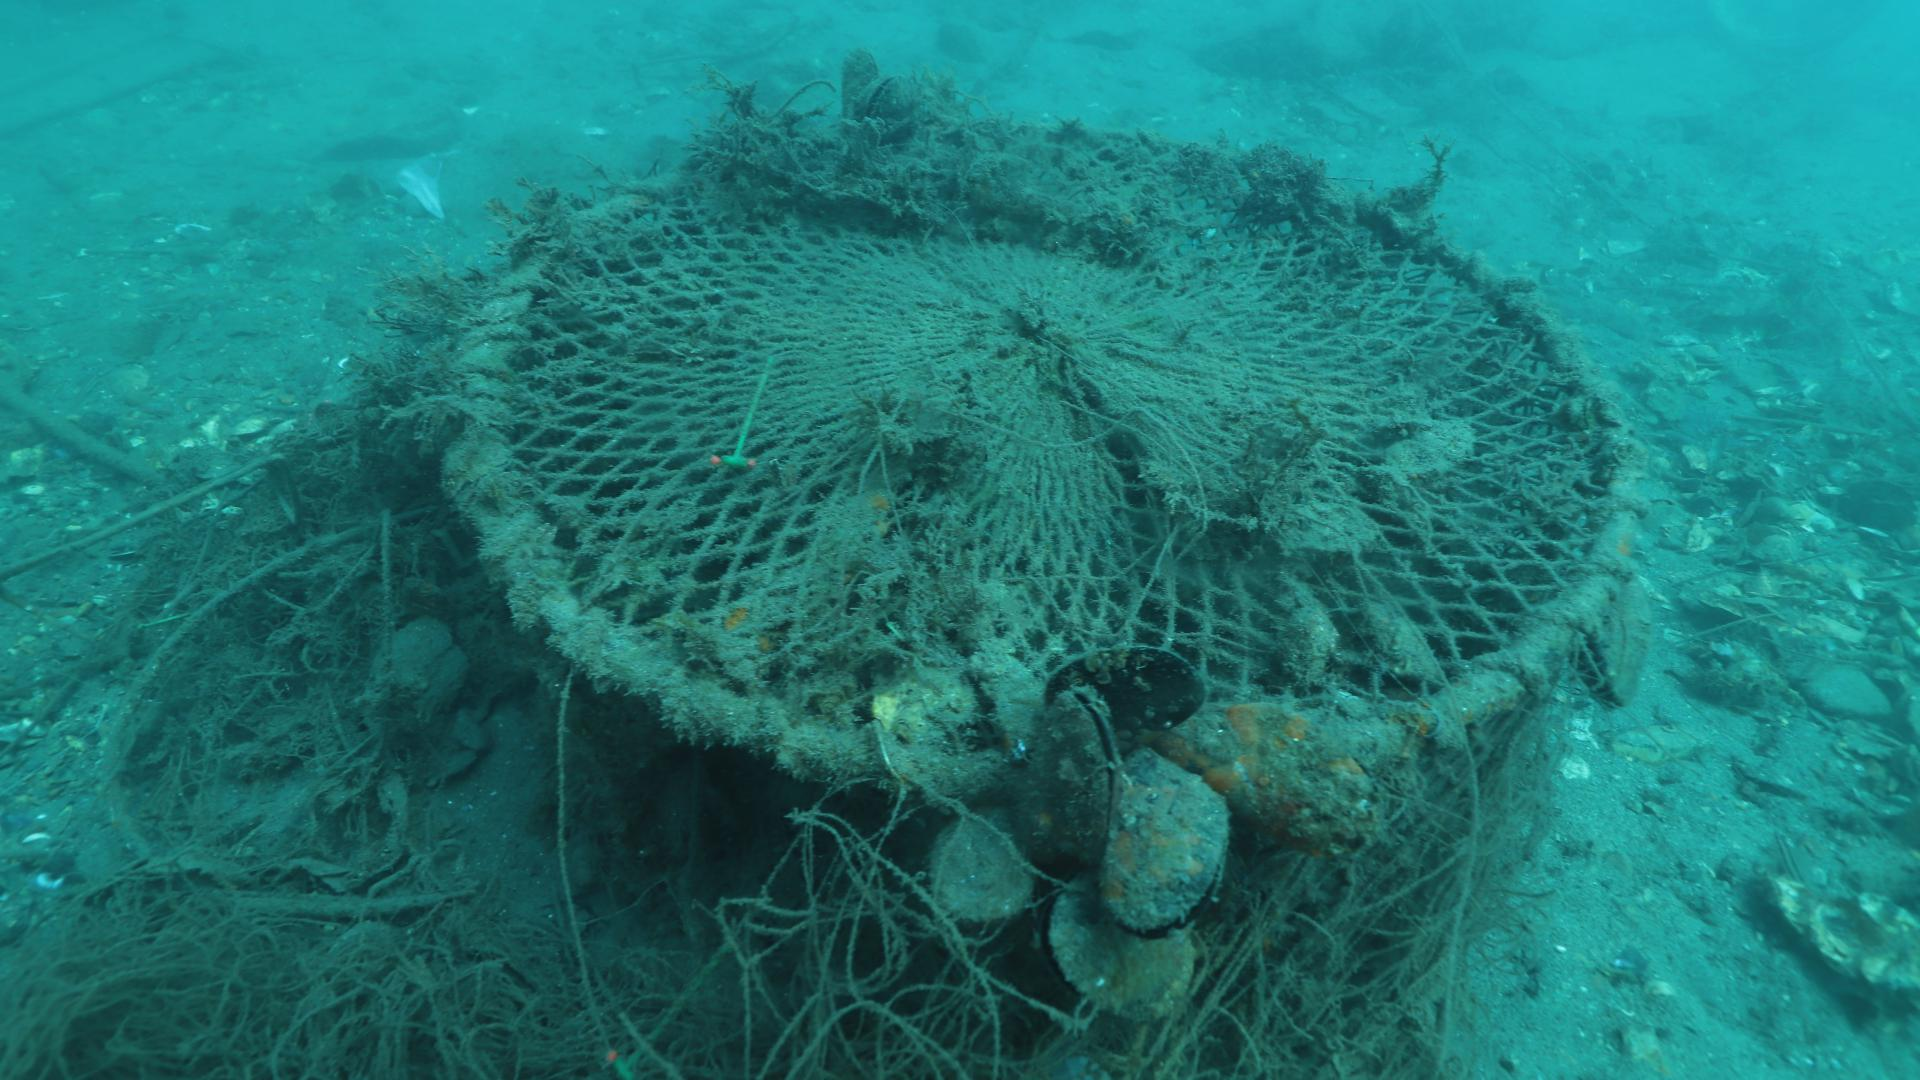circular fish trap: (438, 115, 1652, 1025)
